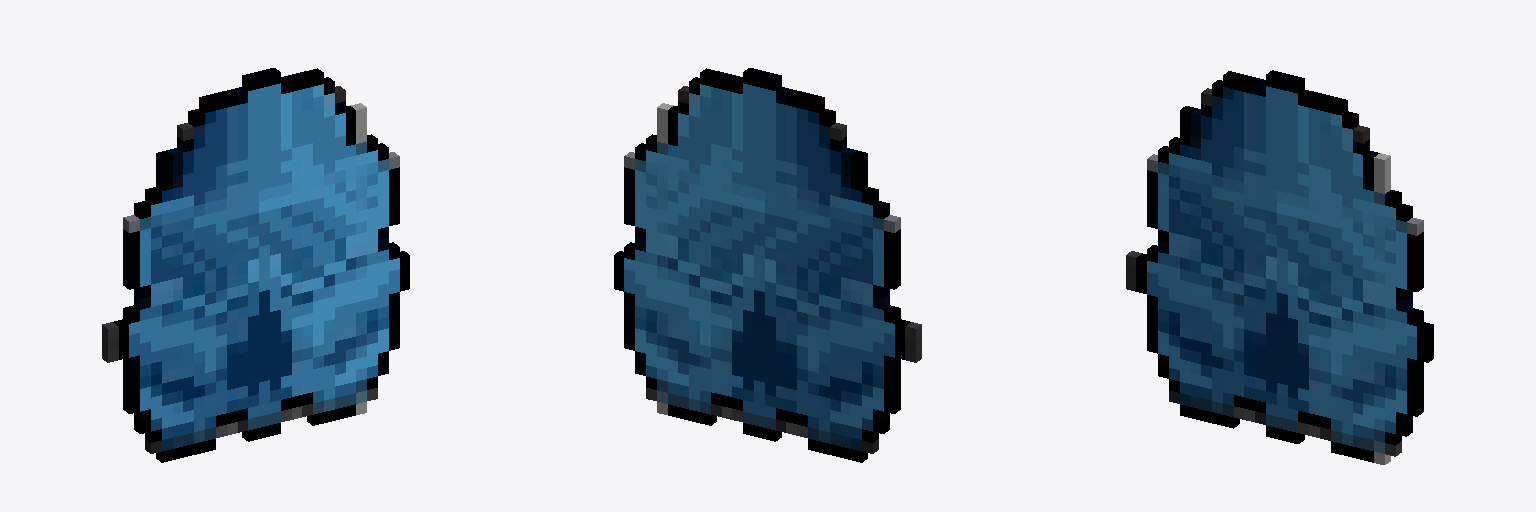
File: kaukau.obj
The picture shows the model from 3 angles: view 1: azimuth 30°, elevation 25°; view 2: azimuth 150°, elevation 25°; view 3: azimuth 330°, elevation 25°; orthographic projection.
Bounding box in the file's own units: 28 × 32 × 1.